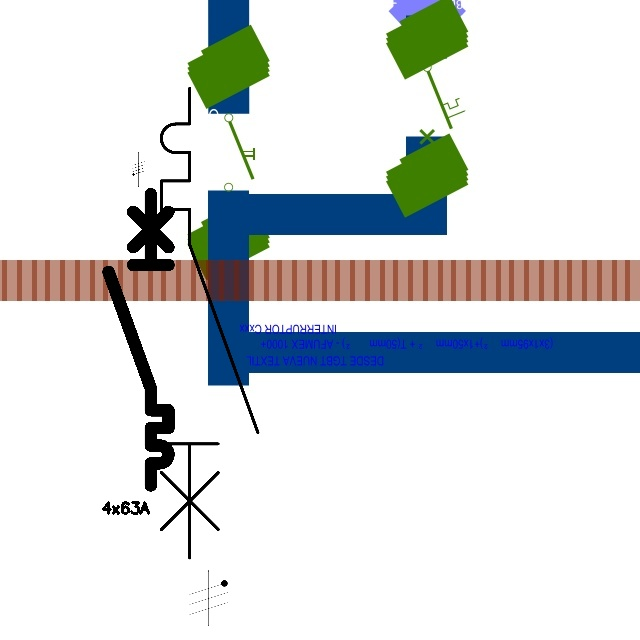interruptor_termomagnetico: (149, 76, 270, 570), (101, 186, 176, 492)
